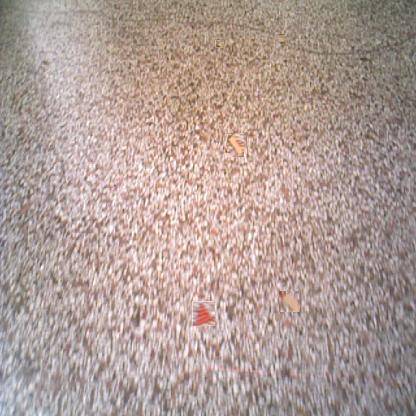dirty: (192, 302, 215, 325), (278, 290, 300, 312), (224, 134, 245, 156), (216, 39, 224, 48), (277, 35, 285, 42)
